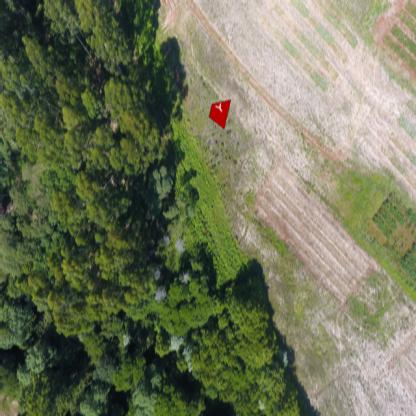Y: (215, 102, 225, 114)
trapezium: (207, 96, 236, 128)
